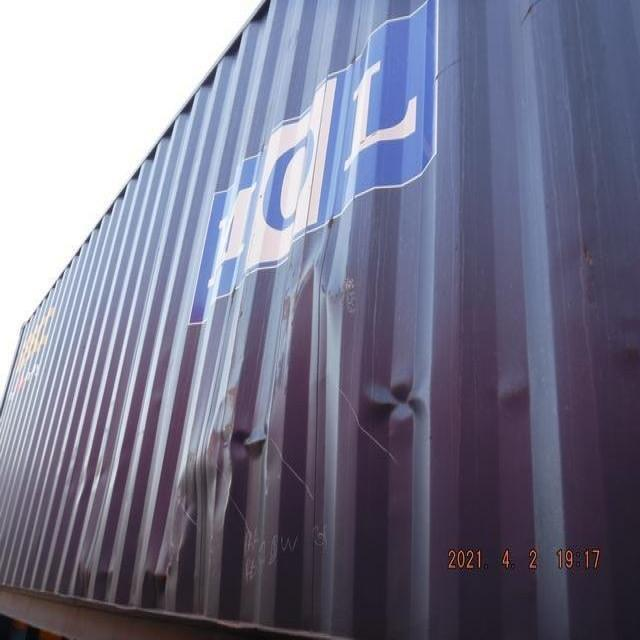dent: (130, 344, 313, 608), (267, 217, 403, 344), (339, 356, 434, 456), (73, 549, 119, 591)
